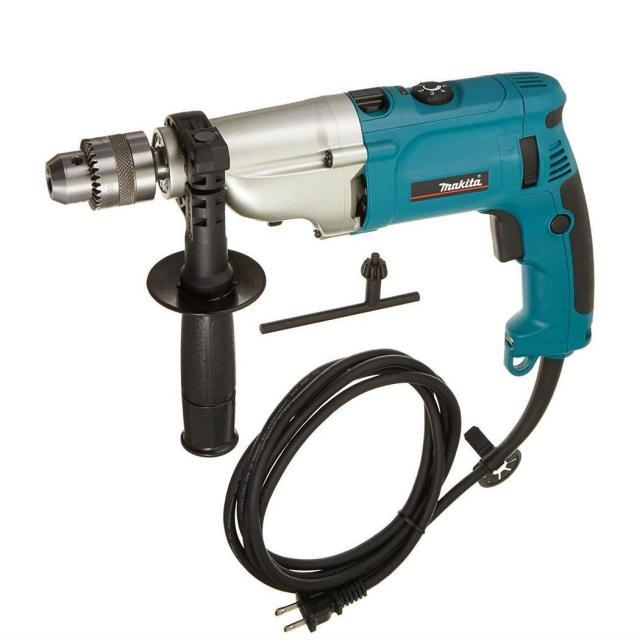drill: (45, 71, 596, 472)
